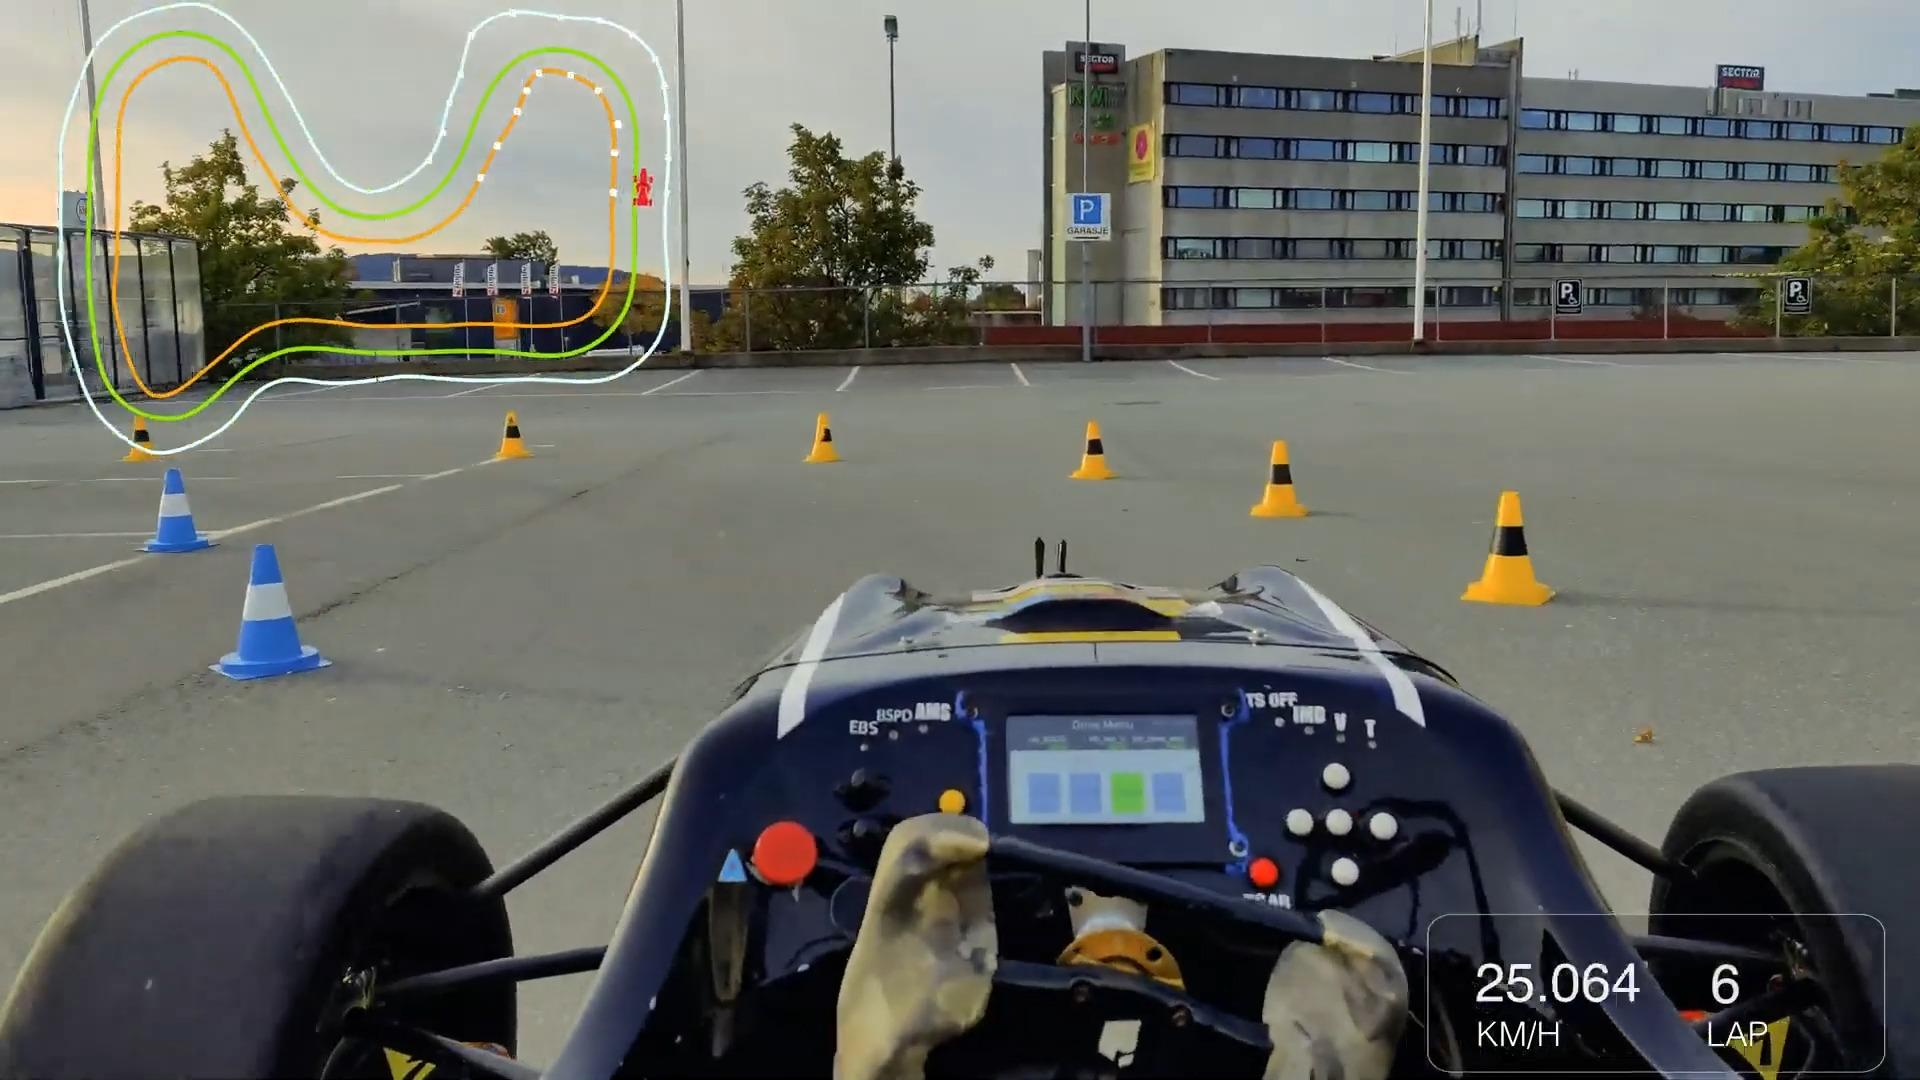blue_cone: (199, 534, 335, 684), (137, 464, 208, 564)
yellow_cone: (1462, 485, 1553, 620), (1244, 429, 1317, 534), (1067, 414, 1142, 495), (483, 409, 537, 469), (798, 400, 844, 469)
